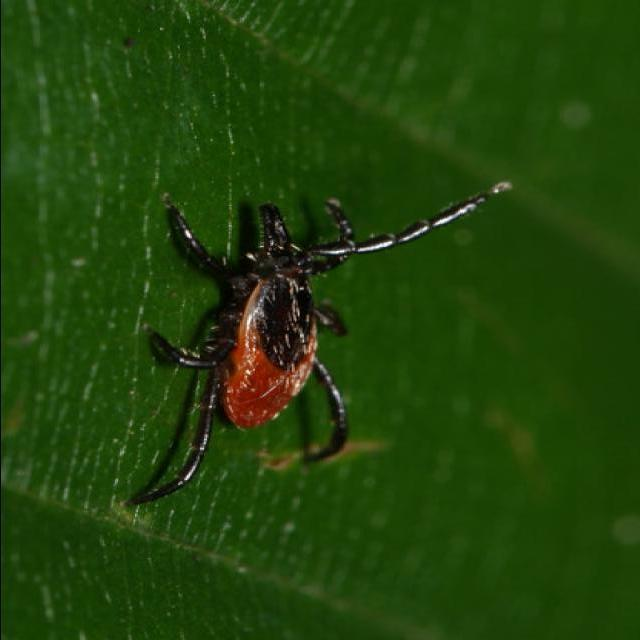Ixodes Ricinus-F: (126, 183, 509, 507)
